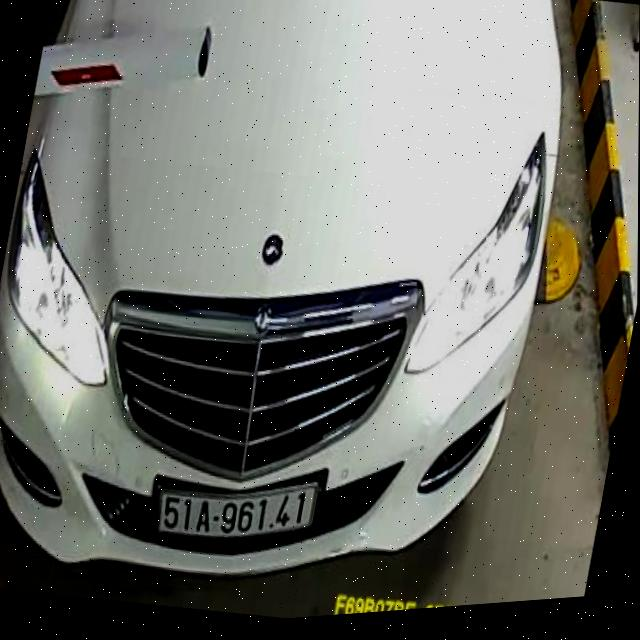car: (0, 0, 595, 640)
plate: (149, 460, 329, 567)
